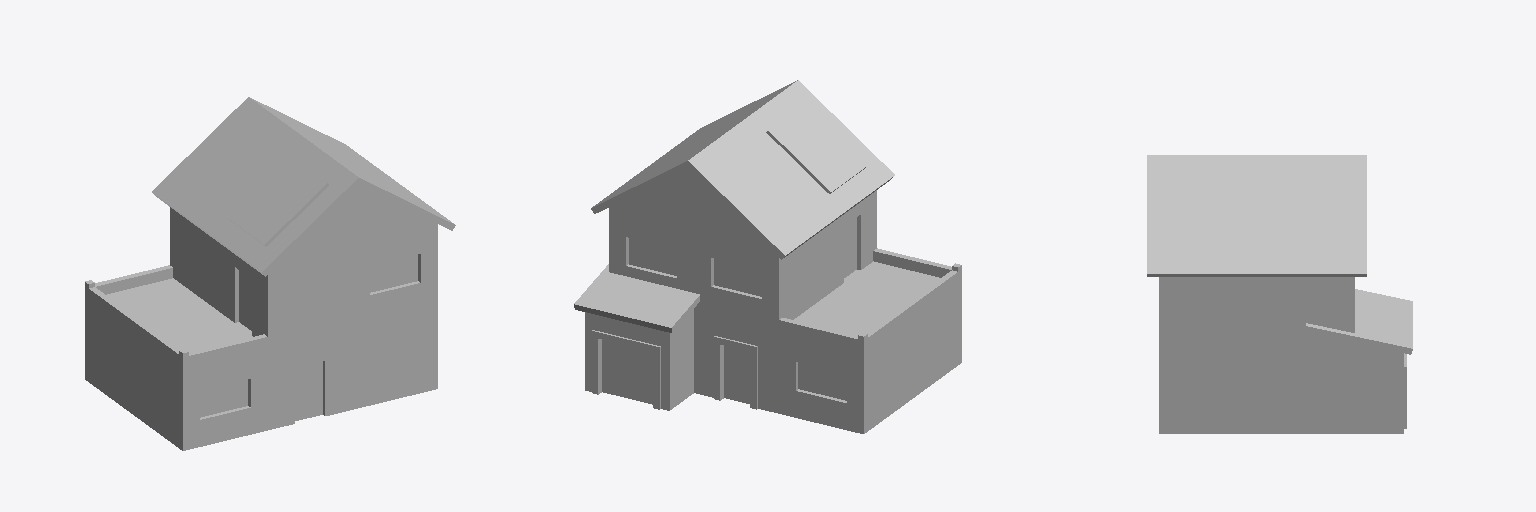
File: city_house_f.obj
3 views of the same model, side by side, from view 1: azimuth 30°, elevation 25°; view 2: azimuth 150°, elevation 25°; view 3: azimuth 270°, elevation 25° (orthographic).
Parts seen in each view (by area): view 1: mergedBlocks; view 2: mergedBlocks; view 3: mergedBlocks.
Boxes of the visible parts, x1=… form: mergedBlocks: x1=85, y1=97, x2=455, y2=450; mergedBlocks: x1=574, y1=80, x2=961, y2=433; mergedBlocks: x1=1147, y1=155, x2=1412, y2=433.
Bounding box in the file's own units: 0.8051 × 0.6825 × 0.6953.